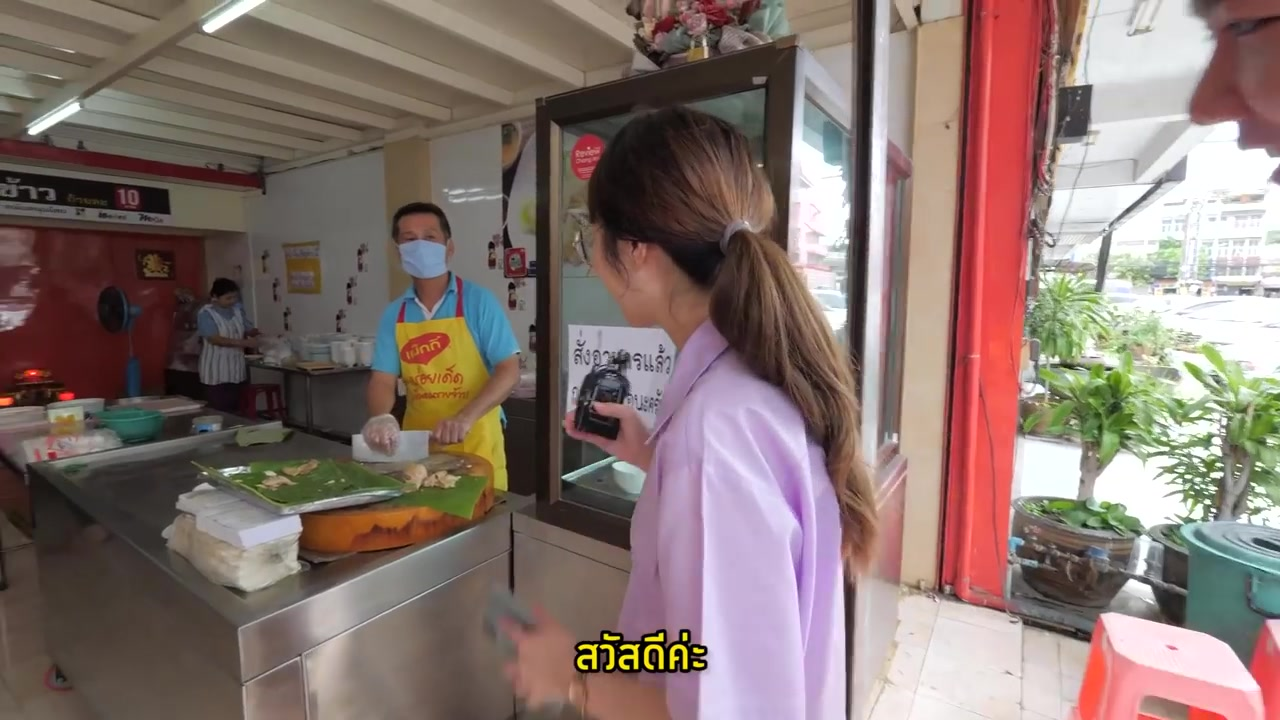text-label: (570, 623, 710, 674)
